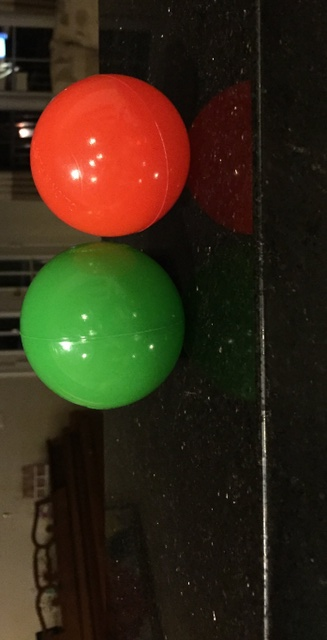Ball: (19, 244, 185, 404)
